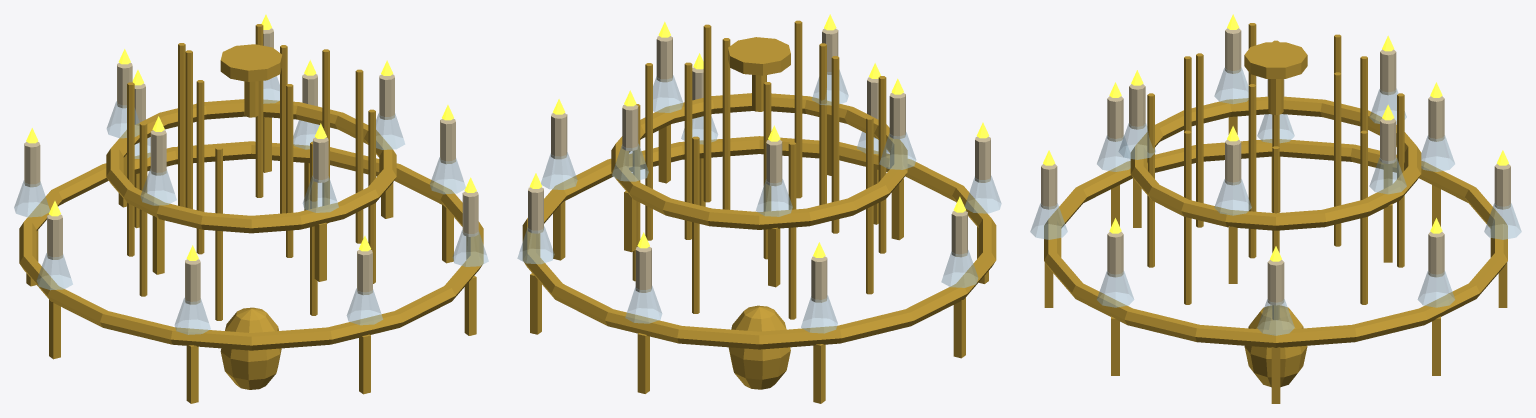
Rendered from chandelier.glb.
The picture shows the model from 3 angles, left to right: view 1: azimuth 30°, elevation 25°; view 2: azimuth 150°, elevation 25°; view 3: azimuth 270°, elevation 25°; orthographic projection.
Parts seen in each view (by area): view 1: chandelier; view 2: chandelier; view 3: chandelier.
Boxes of the visible parts, x1=… form: chandelier: x1=14, y1=14, x2=488, y2=403; chandelier: x1=517, y1=14, x2=1001, y2=403; chandelier: x1=1030, y1=14, x2=1521, y2=403.
Size of the model in its own units: 0.78 by 0.58 by 0.78.
